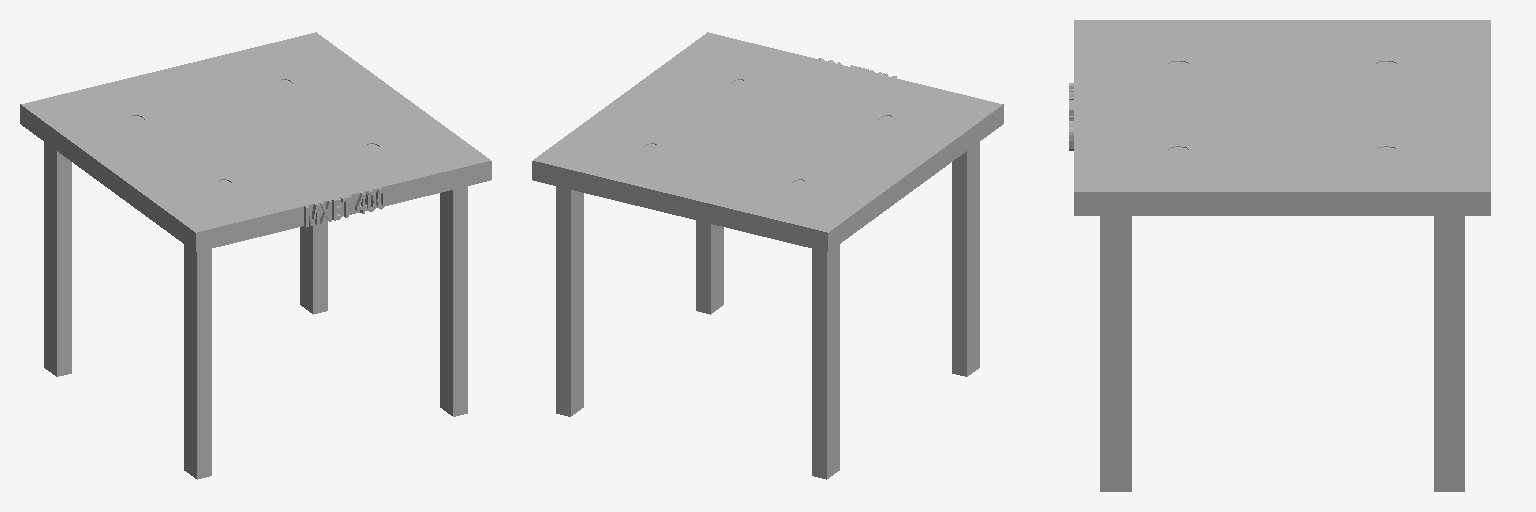
The robot description file, URDF, robot "ur5_stand_model2":
<?xml version="1.0" encoding="utf-8"?>
<!-- =================================================================================== -->
<!-- |    This document was autogenerated by xacro from ur5_stand.xacro                | -->
<!-- |    EDITING THIS FILE BY HAND IS NOT RECOMMENDED                                 | -->
<!-- =================================================================================== -->
<!-- <xacro:include filename="$(find labs_400)/urdf/materials.xacro" /> -->
<robot name="ur5_stand_model2">
  <material name="blue">
    <color rgba= "0 0 1 1"/>
  </material>
  <material name="grey">
    <color rgba="0.75 0.75 0.75 1"/>
  </material>

  <!-- ... -->


  <link name="world"/>
  <joint name="joint_fix" type="fixed">
    <parent link="world"/>
    <child link="table"/>
  </joint>
  <!-- Create a fixed joint with a parameterized name. -->
  <link name="table">
    <!--2-->
    <visual>
      <origin rpy="0 0 0" xyz="0 0 0"/>
      <geometry>
        <mesh filename="package://mxet_ros2_labs/meshes/lab6_meshes/mxet400_table_w_4_holes.STL" scale="0.0013 0.002 0.002"/>
      </geometry>
      <material name="grey"/>
    </visual>
    <collision>
      <origin rpy="0 0 0" xyz="0 0 0"/>
      <geometry>
        <mesh filename="package://mxet_ros2_labs/meshes/lab6_meshes/mxet400_table_w_4_holes.STL" scale="0.0013 0.002 0.002"/>
      </geometry>
      <surface>
        <friction>
          <ode>
            <mu>100</mu>
            <mu2>100</mu2>
        <fdir1>1 1 0</fdir1>
          </ode>
        </friction>
      </surface>
    </collision>
    <inertial>
      <origin rpy="1.570796 0 0" xyz="0 0 0"/>
      <mass value="300.0"/>
      <inertia ixx="7.5972" ixy="-1.394E-14" ixz="1.9328E-17" iyy="0.99673" iyz="-9.2056E-18" izz="8.1168" />
      <!-- <inertia ixx="0.001" ixy="0.0" ixz="0.0" iyy="0.001" iyz="0.0" izz="0.001"/> -->
    </inertial>
  </link>
  <gazebo reference="table">
    <!-- <material>Gazebo/Blue</material> -->
    <mu1>10</mu1>
    <mu2>10</mu2>
    <material>Gazebo/Wood</material>
  </gazebo>
</robot>

--- Facts derived from the render (not from the file) ---
3 views of the same robot in one strip: view 1: azimuth 30°, elevation 25°; view 2: azimuth 150°, elevation 25°; view 3: azimuth 270°, elevation 25° (orthographic).
Robot: ur5_stand_model2 — 2 links, 1 joints (1 fixed); root link world; default pose: every joint at zero.
Links seen in each view (by area): view 1: table; view 2: table; view 3: table.
Boxes of the visible links, box(x1,y1,x2,y2) form: table: box(20, 32, 491, 479); table: box(532, 32, 1003, 479); table: box(1069, 20, 1490, 491).
Bounding box of the posed robot: 0.78 × 0.81 × 0.6506 m (x, y, z).
1 mesh visuals loaded from 1 distinct referenced files (1 binary STL).